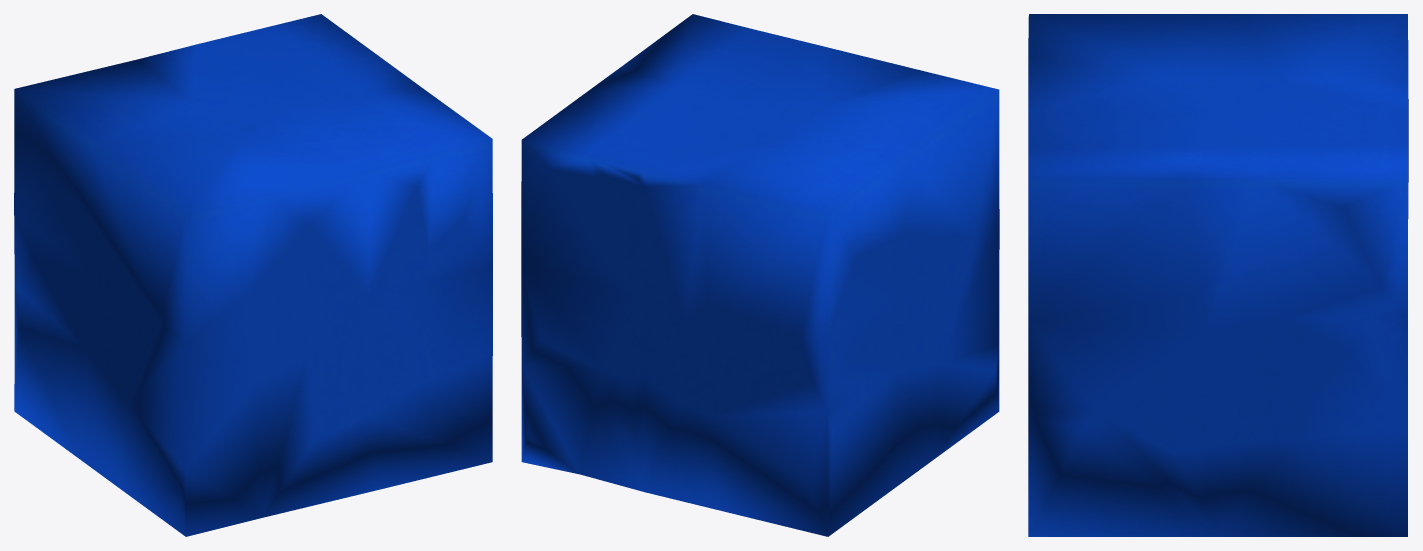
3 renders of one model, left to right at view 1: azimuth 30°, elevation 25°; view 2: azimuth 150°, elevation 25°; view 3: azimuth 270°, elevation 25°, orthographic. The views are drawn at different scales.
Parts seen in each view (by area): view 1: tripo_node_d49ab52d-3513-4c35-8b39-d3697863517f; view 2: tripo_node_d49ab52d-3513-4c35-8b39-d3697863517f; view 3: tripo_node_d49ab52d-3513-4c35-8b39-d3697863517f.
Boxes of the visible parts, x1,y1,x2,y2 form: tripo_node_d49ab52d-3513-4c35-8b39-d3697863517f: (14,14,492,536); tripo_node_d49ab52d-3513-4c35-8b39-d3697863517f: (521,14,999,536); tripo_node_d49ab52d-3513-4c35-8b39-d3697863517f: (1028,14,1408,536).
Bounding box in the file's own units: 0.9946 × 1 × 0.9642.
1 material, 1 textured.
